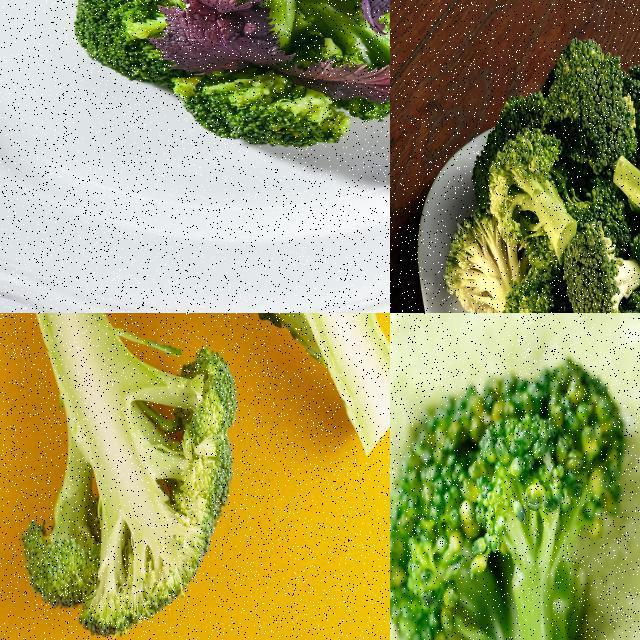broccoli: (14, 313, 243, 639), (390, 358, 634, 639), (156, 313, 389, 464), (538, 36, 634, 185), (168, 64, 346, 144), (295, 0, 389, 126), (491, 129, 578, 263), (177, 0, 344, 64), (438, 211, 523, 312), (610, 153, 639, 312), (494, 271, 599, 312)
